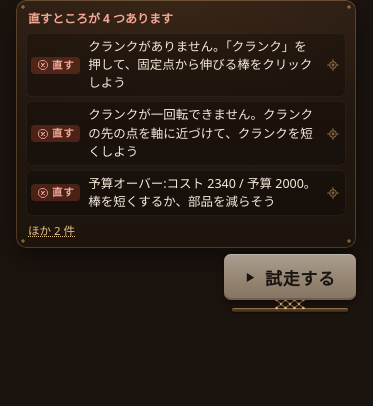
Test case: TestRunButton › 多いときは 3 件まで出し、「ほか N 件」で全部開く。エラーが先
The width and height of the screenshot is (373, 406).
Expected: the number of buttons "直す クランクがありません。「クランク」を押して、固定点から伸びる棒をクリックしよう" is 3, [26,33,346,97]; [26,101,346,166]; [26,170,346,216]
Click the button "ほか 2 件" at (52, 230), box [28,222,75,238]
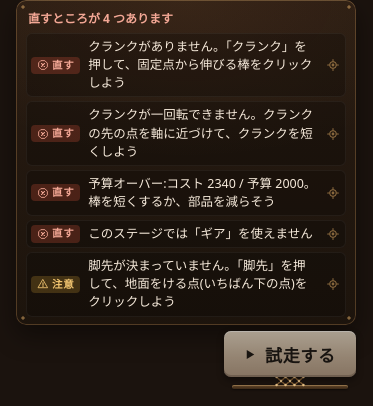
Expected: the number of buttons "直す クランクがありません。「クランク」を押して、固定点から伸びる棒をクリックしよう" is 5, [26,33,346,97]; [26,101,346,166]; [26,170,346,216]; [26,220,346,248]; [26,252,346,316]
